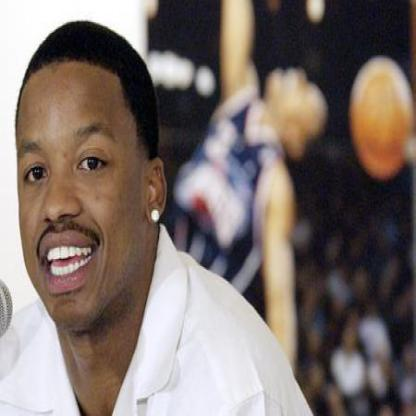face: (6, 27, 150, 333)
